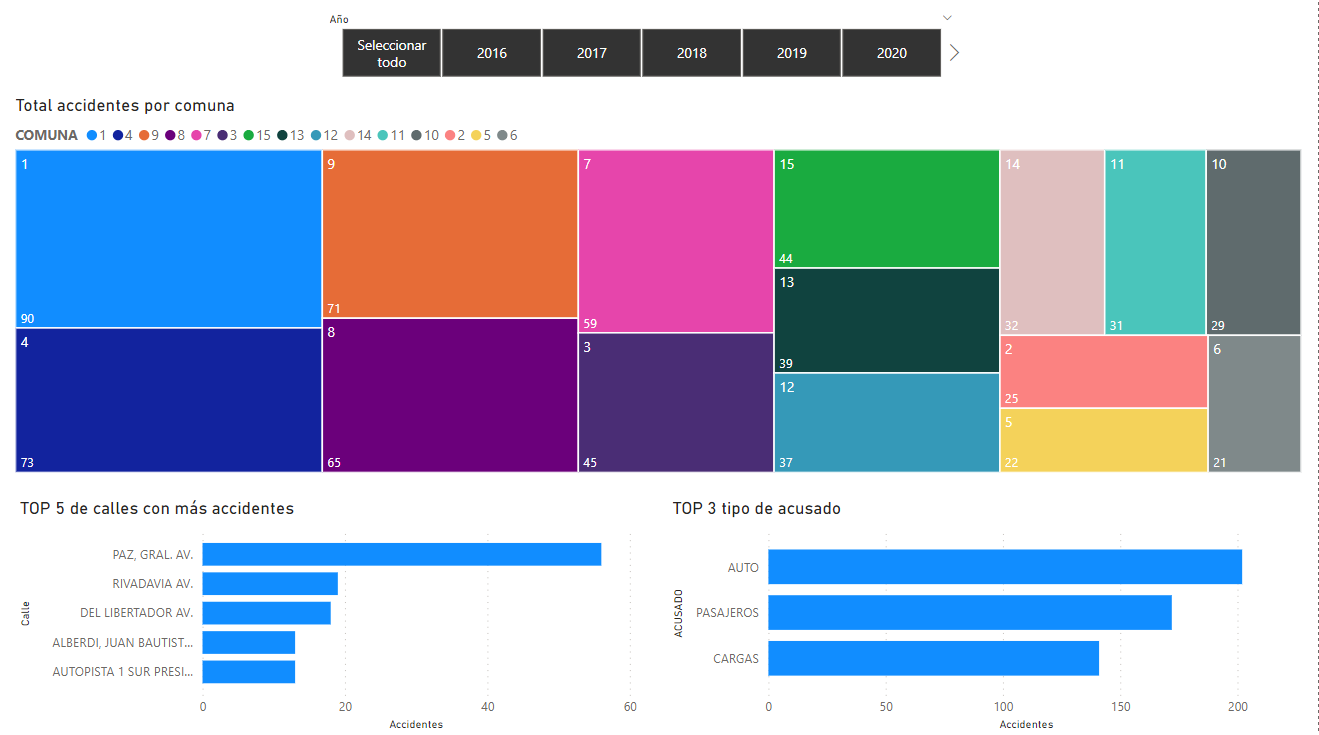

The page's visual inventory and layout, read from the dashboard file:
{"tool":"powerbi","page":{"name":"detalle comunas","canvas":[1280,720],"ordinal":2},"visuals":[{"type":"treemap","title":"Total accidentes por comuna","fields":{"Group":["homicidios.COMUNA"],"Values":["medidas (2).Accidentes"]},"box":[11.7,98.3,1256.7,371.7],"z":0},{"type":"slicer","fields":{"Values":["TablaFechas.Date.Variación.Jerarquía de fechas.Año"]},"box":[308.4,14.5,629.8,74.2],"z":1000},{"type":"barChart","title":"TOP 5 de calles con más accidentes","fields":{"Y":["medidas (2).Total accidentes"],"Category":["homicidios.Calle"]},"box":[16.7,490,608.3,230],"z":2000},{"type":"barChart","title":"TOP 3 tipo de acusado","fields":{"Y":["medidas (2).Total accidentes"],"Category":["homicidios.ACUSADO"]},"box":[648.3,490,613.3,230],"z":3000}]}

Visuals, with their boxes in screenshot pixels (x1, y1, x2, y2), scaled from the page's 1280x720 canvas onto the 1319x735 screenshot:
"Total accidentes por comuna" treemap: (x1=12, y1=100, x2=1307, y2=480)
slicer - TablaFechas.Date.Variación.Jerarquía de fechas.Año: (x1=318, y1=15, x2=967, y2=91)
"TOP 5 de calles con más accidentes" barChart: (x1=17, y1=500, x2=644, y2=734)
"TOP 3 tipo de acusado" barChart: (x1=668, y1=500, x2=1300, y2=734)
